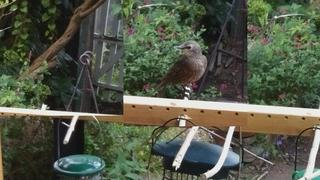starling: (153, 40, 207, 100)
